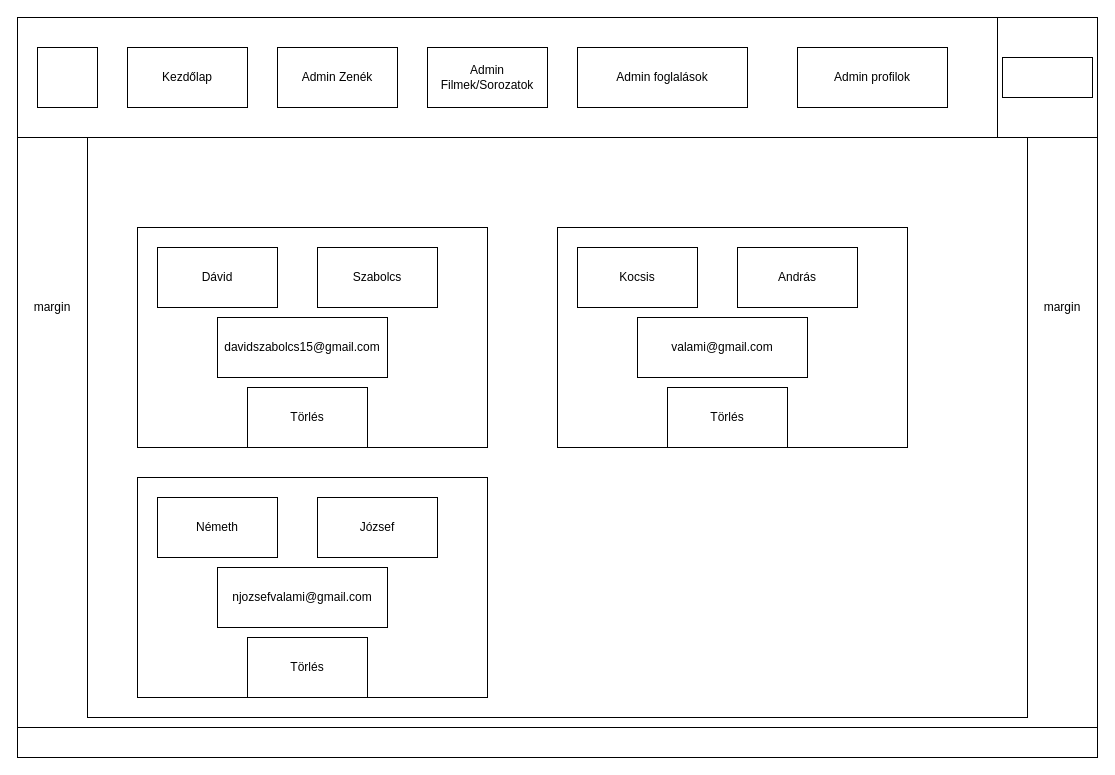
Some shapes in this 1115 by 775 pixel diagram are drawn without their labels. Here are the shapes that lost their labels. From the top down, the centre of each, then its label:
At (x=67, y=77): "Logo".
At (x=1047, y=77): "ADMIN".
At (x=557, y=742): "Footer".
